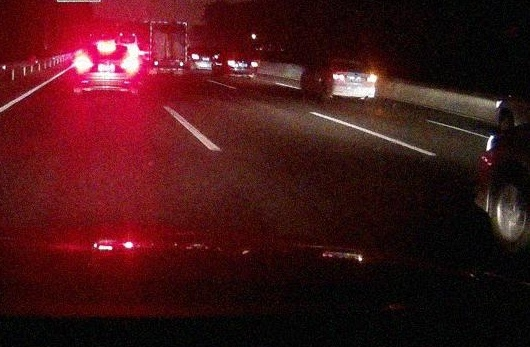L_light: (74, 57, 92, 71), (331, 73, 344, 80), (226, 61, 237, 67), (152, 61, 161, 66)
R_light: (122, 58, 139, 71), (364, 73, 377, 83), (250, 61, 258, 67), (177, 61, 185, 66)
T_light: (97, 42, 116, 52), (347, 60, 356, 64), (166, 23, 174, 27), (238, 51, 246, 54)
night-brake: (73, 40, 140, 96)
night-no: (149, 21, 188, 77), (224, 51, 258, 78)
night-right: (327, 59, 378, 103)
